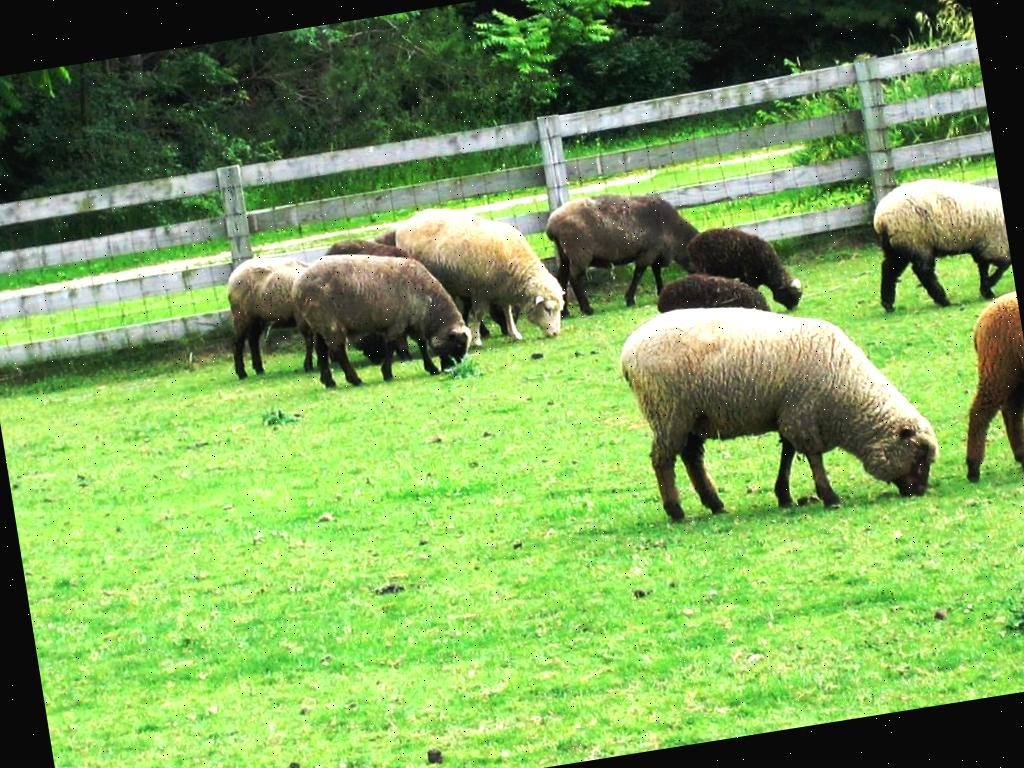Sheep: (606, 261, 966, 543), (282, 235, 476, 397), (539, 178, 709, 322), (858, 166, 1016, 320), (940, 294, 1024, 484), (680, 214, 809, 328), (218, 249, 326, 381)
